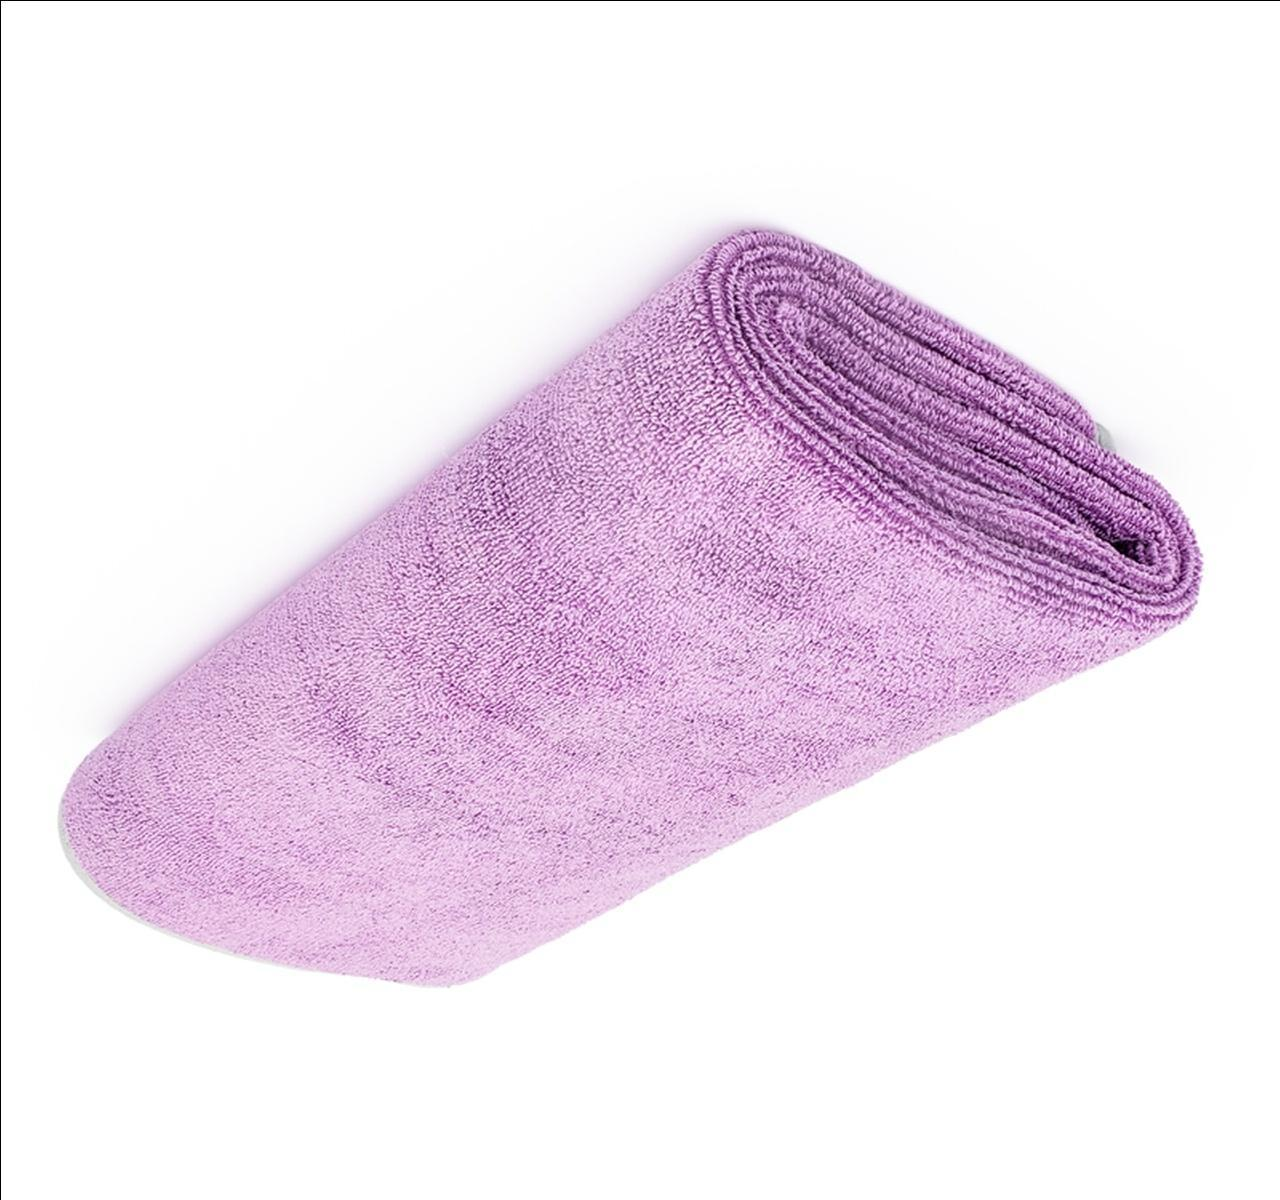towel: (58, 142, 1225, 1110)
